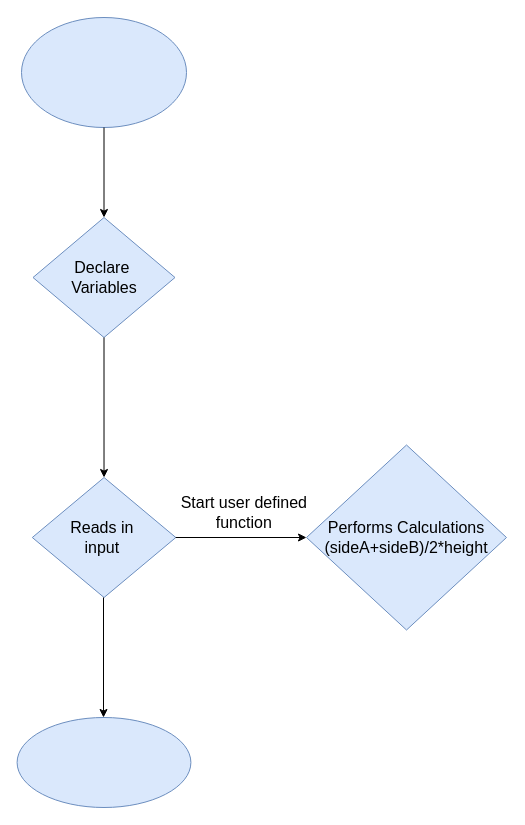
The diagram is 525 pixels wide and 825 high, and some of its shapes have lost their labels. Each missing label, with the box of its shape:
Print Results: (16, 716, 191, 808)
Start Case: 5 Area of a Rectangle: (20, 16, 186, 128)
